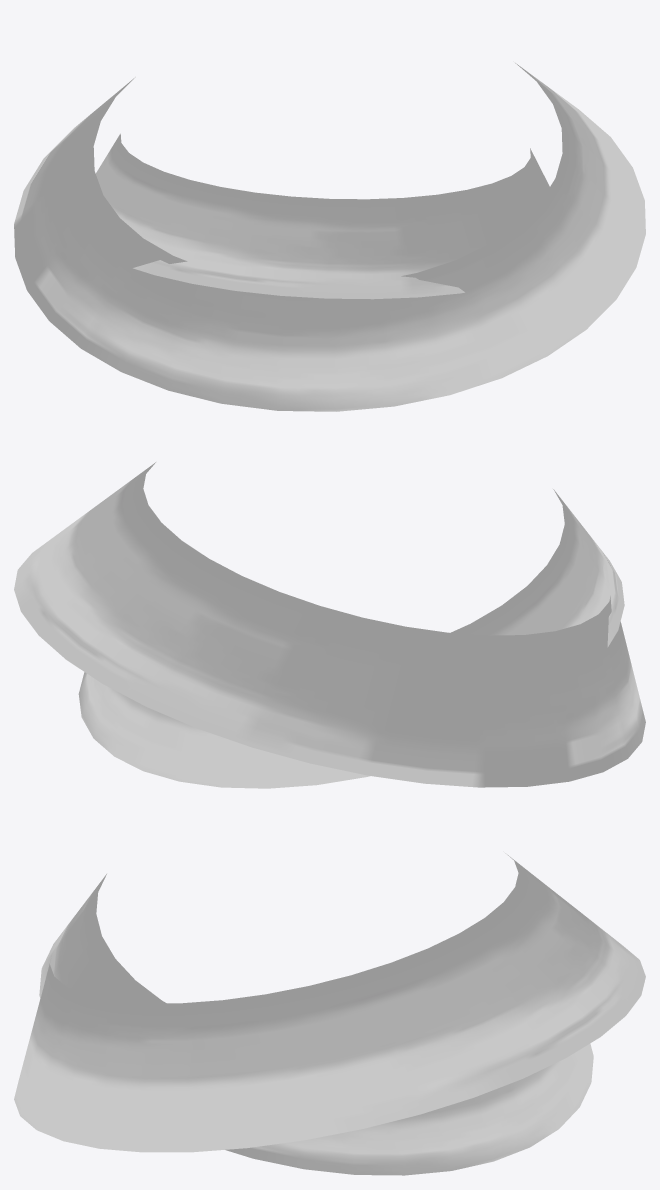
File: tornado_hit.glb
3 views of the same model, one above another, from view 1: azimuth 30°, elevation 25°; view 2: azimuth 150°, elevation 25°; view 3: azimuth 270°, elevation 25° (orthographic). The views are drawn at different scales.
Visible parts, largest first — view 1: FX_Props_Item_Tornado_Hited_02; view 2: FX_Props_Item_Tornado_Hited_02; view 3: FX_Props_Item_Tornado_Hited_02.
Part boxes in pixels (box(x1,y1,x2,y2)): FX_Props_Item_Tornado_Hited_02: box(14, 63, 645, 411); FX_Props_Item_Tornado_Hited_02: box(14, 462, 645, 788); FX_Props_Item_Tornado_Hited_02: box(14, 853, 645, 1175).
Size of the model in its own units: 4.09 by 1.5 by 3.91.
Materials: 1 (1 with a texture image).
